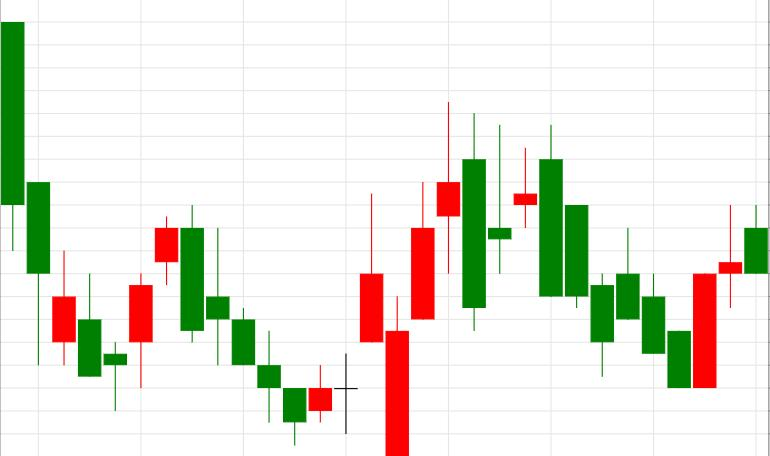bearish_engulfing_fall: (78, 205, 203, 410)
bullish_engulfing_rise: (540, 125, 716, 387)
